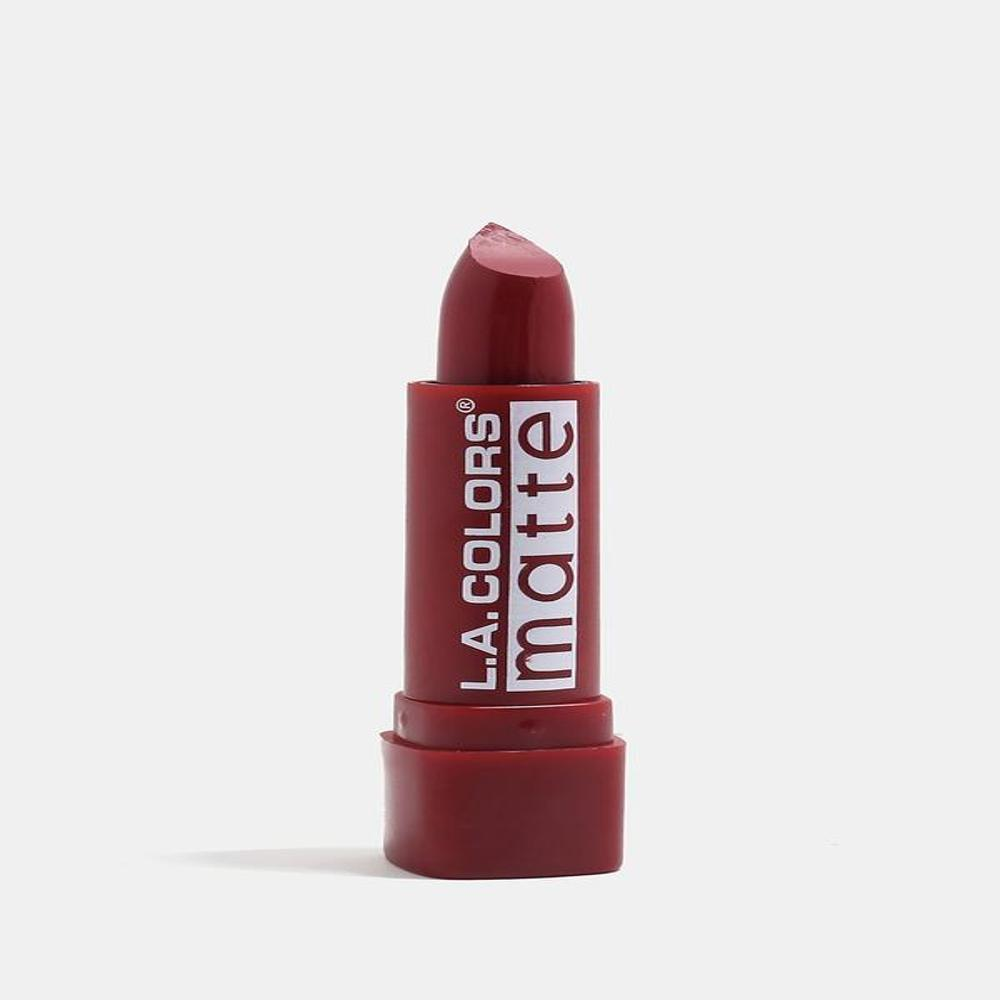lipstick: (348, 224, 680, 926)
